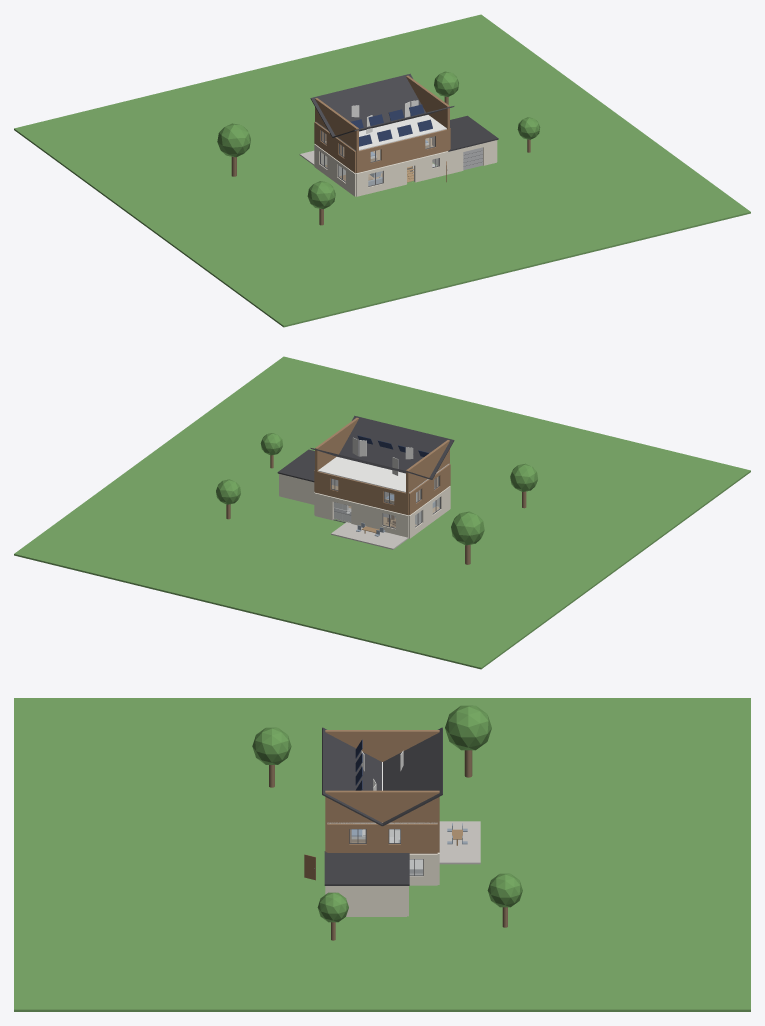
File: familienhaus.glb
3 renders of one model, top to bottom at view 1: azimuth 30°, elevation 25°; view 2: azimuth 150°, elevation 25°; view 3: azimuth 270°, elevation 25°, orthographic. The views are drawn at different scales.
Parts seen in each view (by area): view 1: Grundstück, Dachfläche_hinten, Decke_OG, Garage_Dach, OG_Front_3, Giebel_West, Baumkrone_-15_7, Giebel_Ost, Baumkrone_-13_-9, EG_Front_3; view 2: Grundstück, Dachfläche_vorn, Decke_OG, OG_Hinten_3, Giebel_West, Terrasse, Baumkrone_-15_7, Giebel_Ost, Garage_Hinten_0, Garage_Dach, EG_Hinten_3, Baumkrone_-13_-9; view 3: Grundstück, Giebel_Ost, Dachfläche_hinten, Garage_Dach, Dachfläche_vorn, Garage_Ost_0, Giebel_West, Terrasse, Baumkrone_-15_7, Baumkrone_-13_-9, OG_Ost_6, Baumkrone_14_10 (+3 smaller).
Boxes of the visible parts, <box> form: Grundstück: <box>14,14,750,327</box>; Dachfläche_hinten: <box>310,73,425,137</box>; Decke_OG: <box>315,115,446,151</box>; Garage_Dach: <box>430,115,498,151</box>; OG_Front_3: <box>381,135,425,166</box>; Giebel_West: <box>315,98,358,151</box>; Baumkrone_-15_7: <box>217,123,250,157</box>; Giebel_Ost: <box>406,75,449,129</box>; Baumkrone_-13_-9: <box>307,181,335,209</box>; EG_Front_3: <box>383,161,406,189</box>; Grundstück: <box>14,356,750,669</box>; Dachfläche_vorn: <box>339,415,454,479</box>; Decke_OG: <box>318,457,449,493</box>; OG_Hinten_3: <box>338,476,383,508</box>; Giebel_West: <box>406,440,449,493</box>; Terrasse: <box>331,522,408,549</box>; Baumkrone_-15_7: <box>451,511,484,545</box>; Giebel_Ost: <box>315,417,358,471</box>; Garage_Hinten_0: <box>279,474,314,504</box>; Garage_Dach: <box>277,449,314,482</box>; EG_Hinten_3: <box>351,501,382,530</box>; Baumkrone_-13_-9: <box>510,463,537,491</box>; Grundstück: <box>14,698,750,1011</box>; Giebel_Ost: <box>325,790,439,823</box>; Dachfläche_hinten: <box>382,727,442,825</box>; Garage_Dach: <box>324,851,409,885</box>; Dachfläche_vorn: <box>322,727,382,825</box>; Garage_Ost_0: <box>327,886,406,916</box>; Giebel_West: <box>325,730,439,761</box>; Terrasse: <box>439,821,480,864</box>; Baumkrone_-15_7: <box>445,705,491,750</box>; Baumkrone_-13_-9: <box>252,727,291,764</box>; OG_Ost_6: <box>401,823,437,853</box>; Baumkrone_14_10: <box>487,873,522,907</box>.
Bounding box in the file's own units: 60 × 8.63 × 60.
